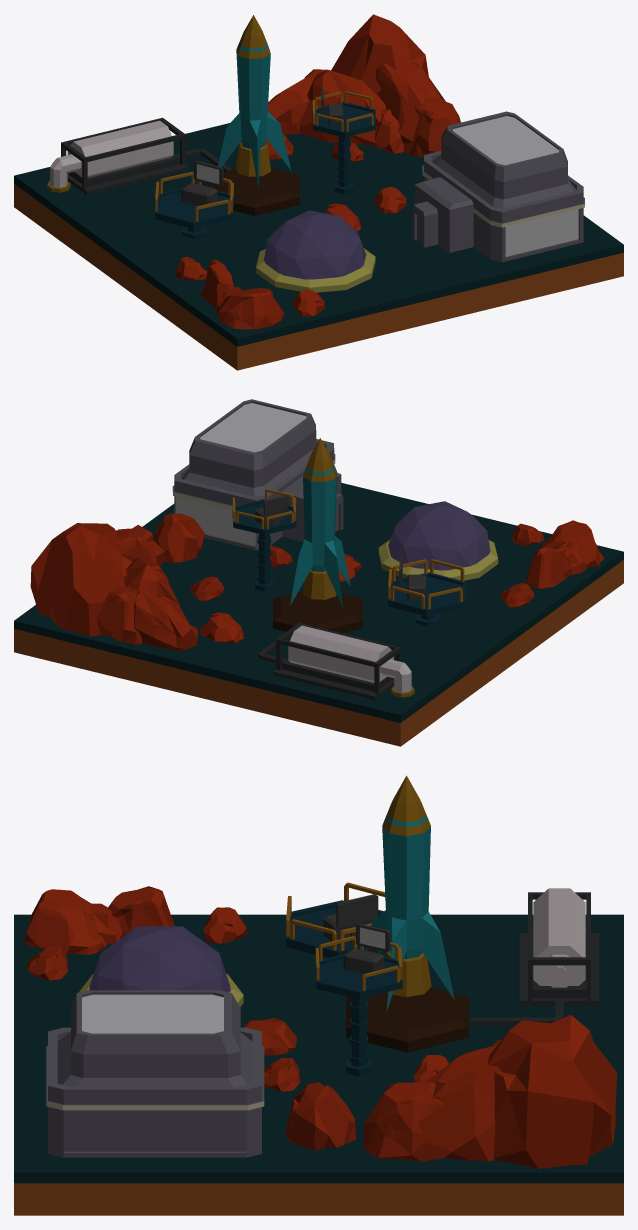
The model's file is spacePlatform.glb.
3 views of the same model, one above another, from view 1: azimuth 30°, elevation 25°; view 2: azimuth 150°, elevation 25°; view 3: azimuth 270°, elevation 25° (orthographic). The views are drawn at different scales.
Parts seen in each view (by area): view 1: Cube.007, Cube.001, Cylinder, Icosphere, Cylinder.001, Cylinder.004, Cube.013, Cube, Cylinder.005, Cube.016, Cube.015, Cylinder.003 (+9 smaller); view 2: Cube.007, Cube.001, Cube.013, Cylinder, Icosphere, Cylinder.001, Cube, Cylinder.004, Cylinder.005, Cylinder.003, Cube.003, Cube.017 (+11 smaller); view 3: Cube.007, Cube.001, Cube.013, Cylinder, Icosphere, Cube.016, Cylinder.005, Cylinder.003, Cube, Cube.009, Cylinder.001, Cylinder.004 (+9 smaller).
Part boxes in pixels (left/top/right/bottom): Cube.007: left=14, top=123, right=623, bottom=370; Cube.001: left=412, top=111, right=584, bottom=262; Cylinder: left=218, top=15, right=291, bottom=188; Icosphere: left=264, top=210, right=366, bottom=279; Cylinder.001: left=47, top=120, right=173, bottom=192; Cylinder.004: left=155, top=161, right=234, bottom=238; Cube.013: left=331, top=14, right=428, bottom=93; Cube: left=61, top=117, right=232, bottom=194; Cylinder.005: left=312, top=88, right=375, bottom=194; Cube.016: left=375, top=63, right=445, bottom=157; Cube.015: left=296, top=70, right=386, bottom=145; Cylinder.003: left=213, top=168, right=299, bottom=215; Cube.007: left=14, top=483, right=623, bottom=746; Cube.001: left=172, top=399, right=343, bottom=550; Cube.013: left=30, top=523, right=134, bottom=636; Cylinder: left=290, top=438, right=350, bottom=607; Icosphere: left=388, top=501, right=490, bottom=570; Cylinder.001: left=288, top=625, right=414, bottom=697; Cube: left=258, top=622, right=400, bottom=699; Cylinder.004: left=388, top=555, right=467, bottom=626; Cylinder.005: left=232, top=489, right=296, bottom=591; Cylinder.003: left=273, top=591, right=362, bottom=633; Cube.003: left=134, top=591, right=198, bottom=651; Cube.017: left=154, top=513, right=204, bottom=562; Cube.007: left=14, top=914, right=623, bottom=1215; Cube.001: left=46, top=990, right=264, bottom=1157; Cube.013: left=488, top=1015, right=617, bottom=1168; Cylinder: left=365, top=775, right=454, bottom=1011; Icosphere: left=89, top=926, right=230, bottom=992; Cube.016: left=418, top=1045, right=500, bottom=1161; Cylinder.005: left=315, top=923, right=402, bottom=1076; Cylinder.003: left=346, top=987, right=468, bottom=1052; Cube: left=470, top=892, right=599, bottom=1025; Cube.009: left=363, top=1081, right=452, bottom=1161; Cylinder.001: left=533, top=888, right=585, bottom=987; Cylinder.004: left=286, top=882, right=385, bottom=958.
Bounding box in the file's own units: 24.58 × 13.65 × 24.58.
